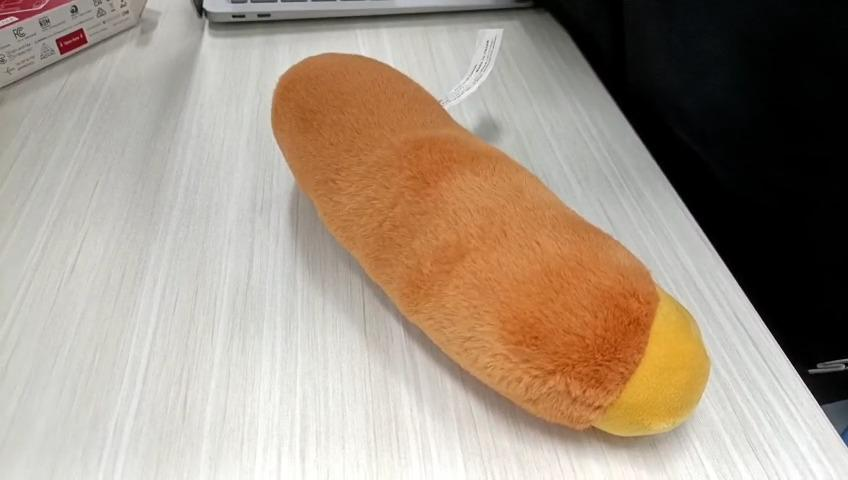hotdog: (272, 54, 713, 435)
